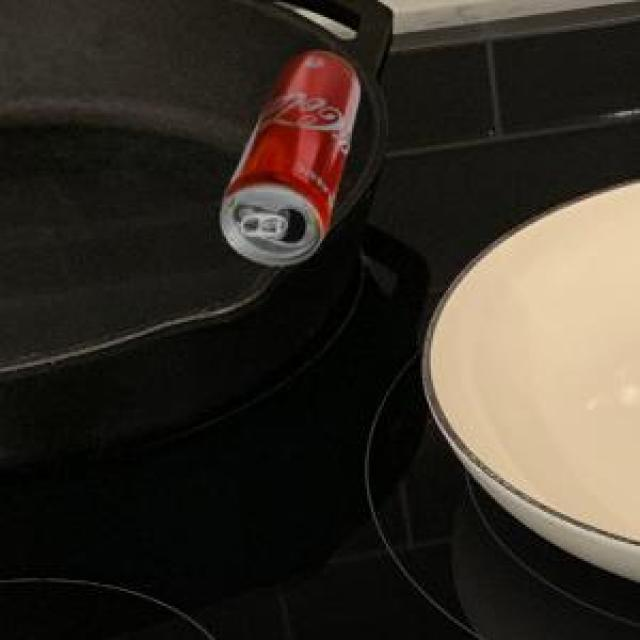Can: (219, 48, 357, 261)
